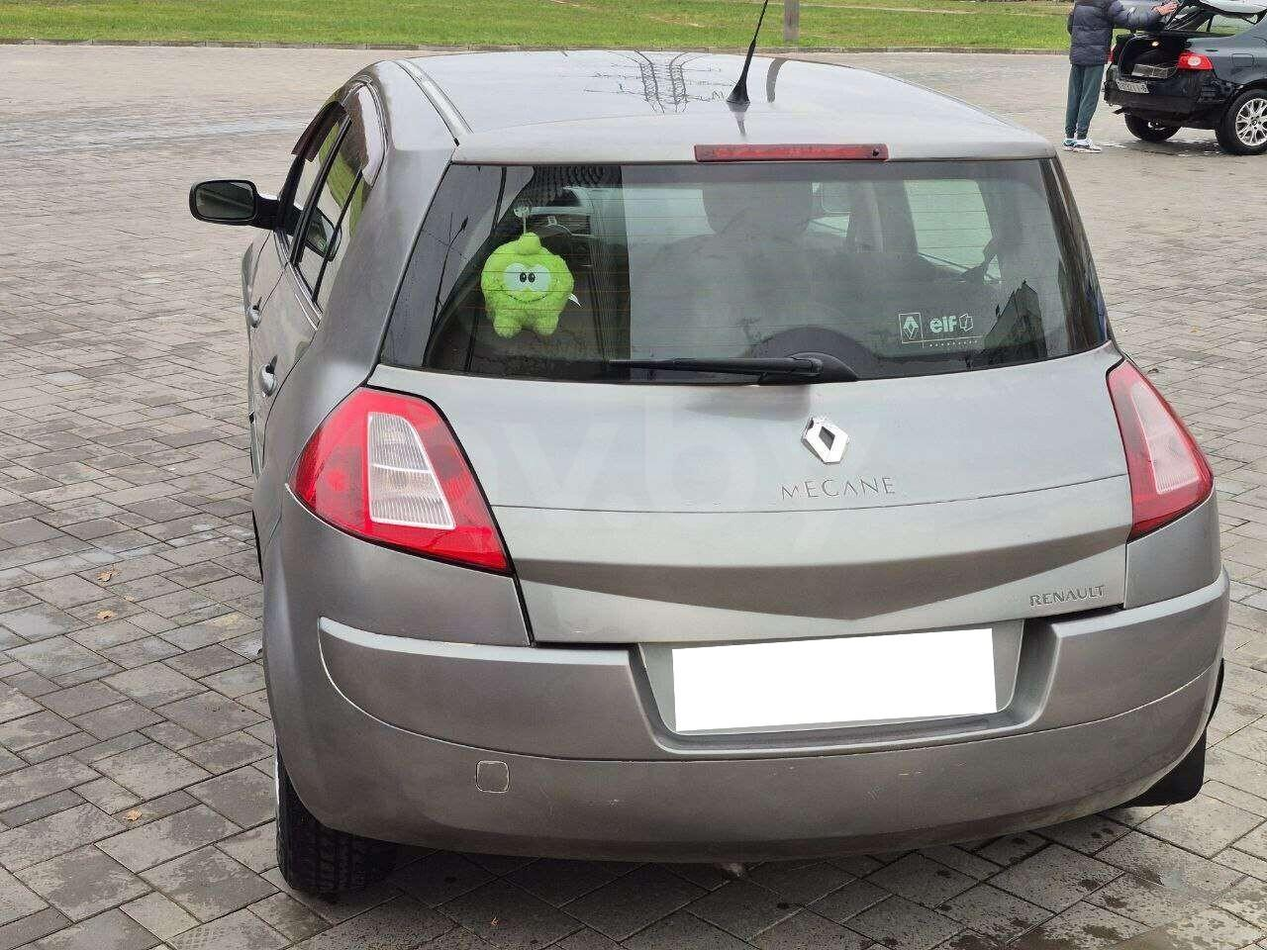Megane_2002-2006: (192, 47, 1229, 879)
